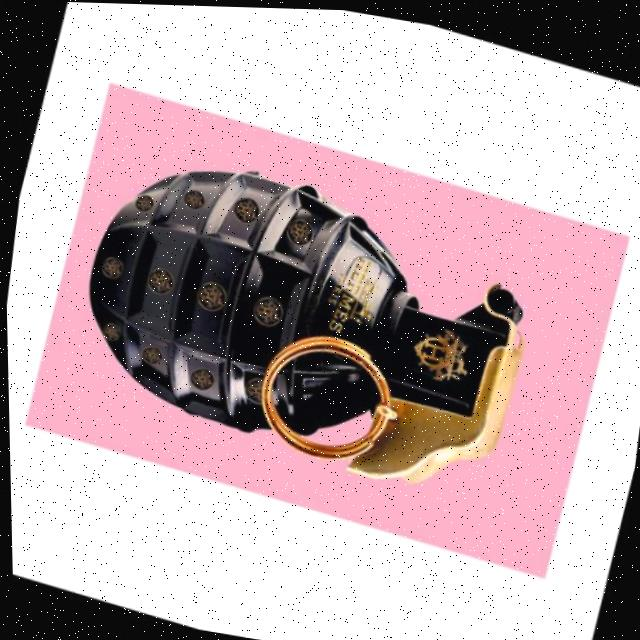grenade: (43, 123, 545, 508)
